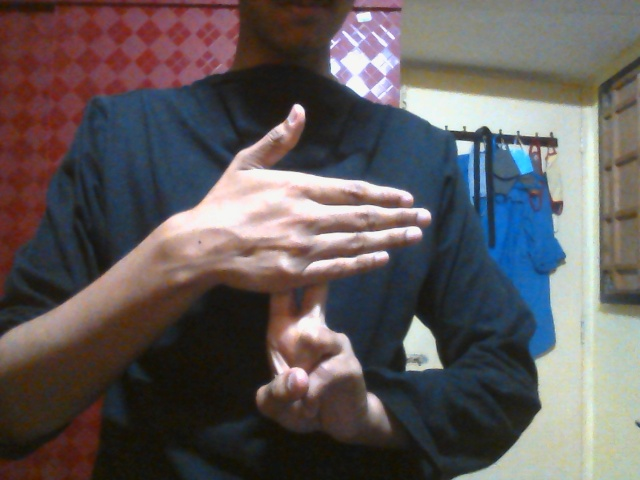N: (199, 101, 433, 441)
